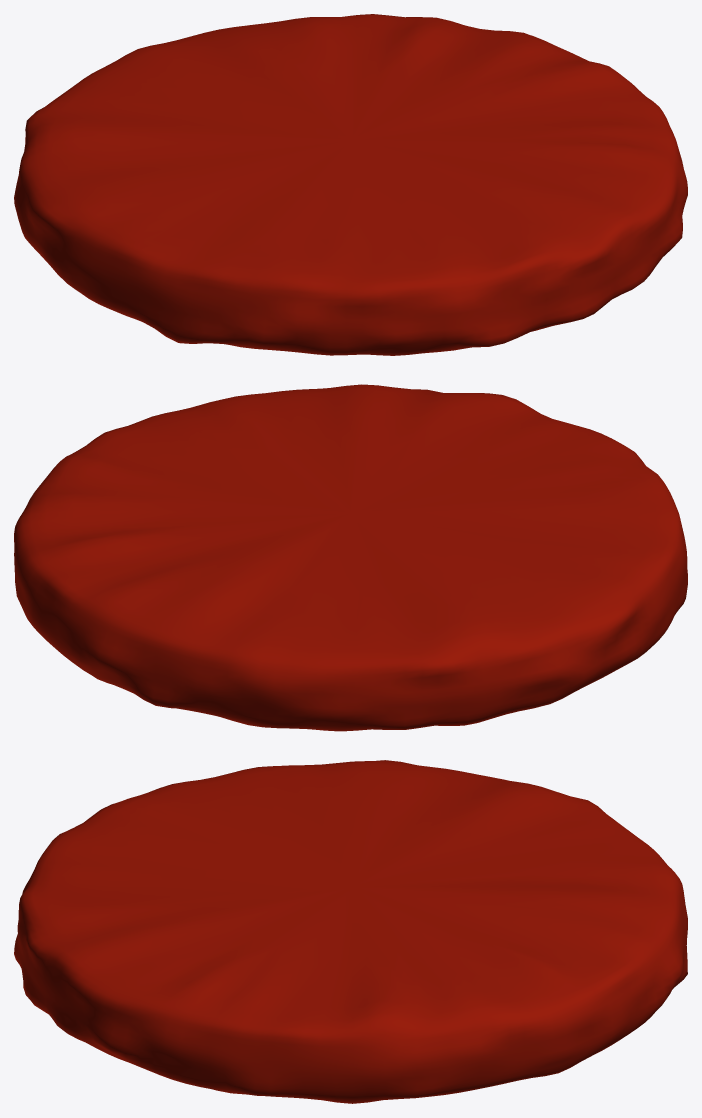
The model's file is MeatCutModel.fbx.
3 views of the same model, one above another, from view 1: azimuth 30°, elevation 25°; view 2: azimuth 150°, elevation 25°; view 3: azimuth 270°, elevation 25° (orthographic).
Parts seen in each view (by area): view 1: CutMeat; view 2: CutMeat; view 3: CutMeat.
Part boxes in pixels (bbox=[...]): CutMeat: bbox=[14, 14, 687, 355]; CutMeat: bbox=[14, 384, 687, 731]; CutMeat: bbox=[14, 760, 687, 1103].
Bounding box in the file's own units: 31.73 × 5.09 × 31.61.
